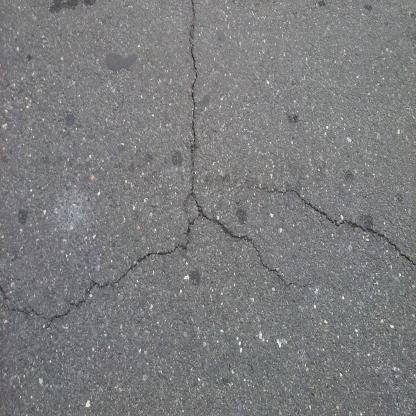Cracks: (0, 209, 279, 332), (262, 176, 416, 270), (180, 0, 205, 223)
